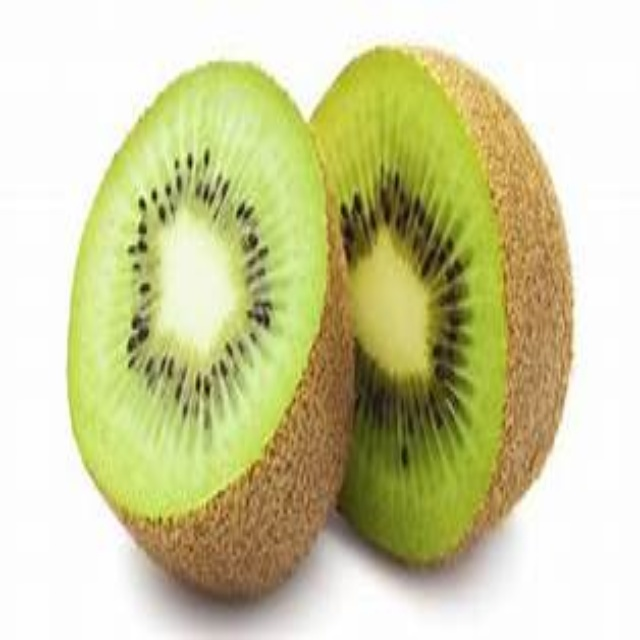kiwi: (64, 60, 349, 603), (296, 46, 554, 569)
